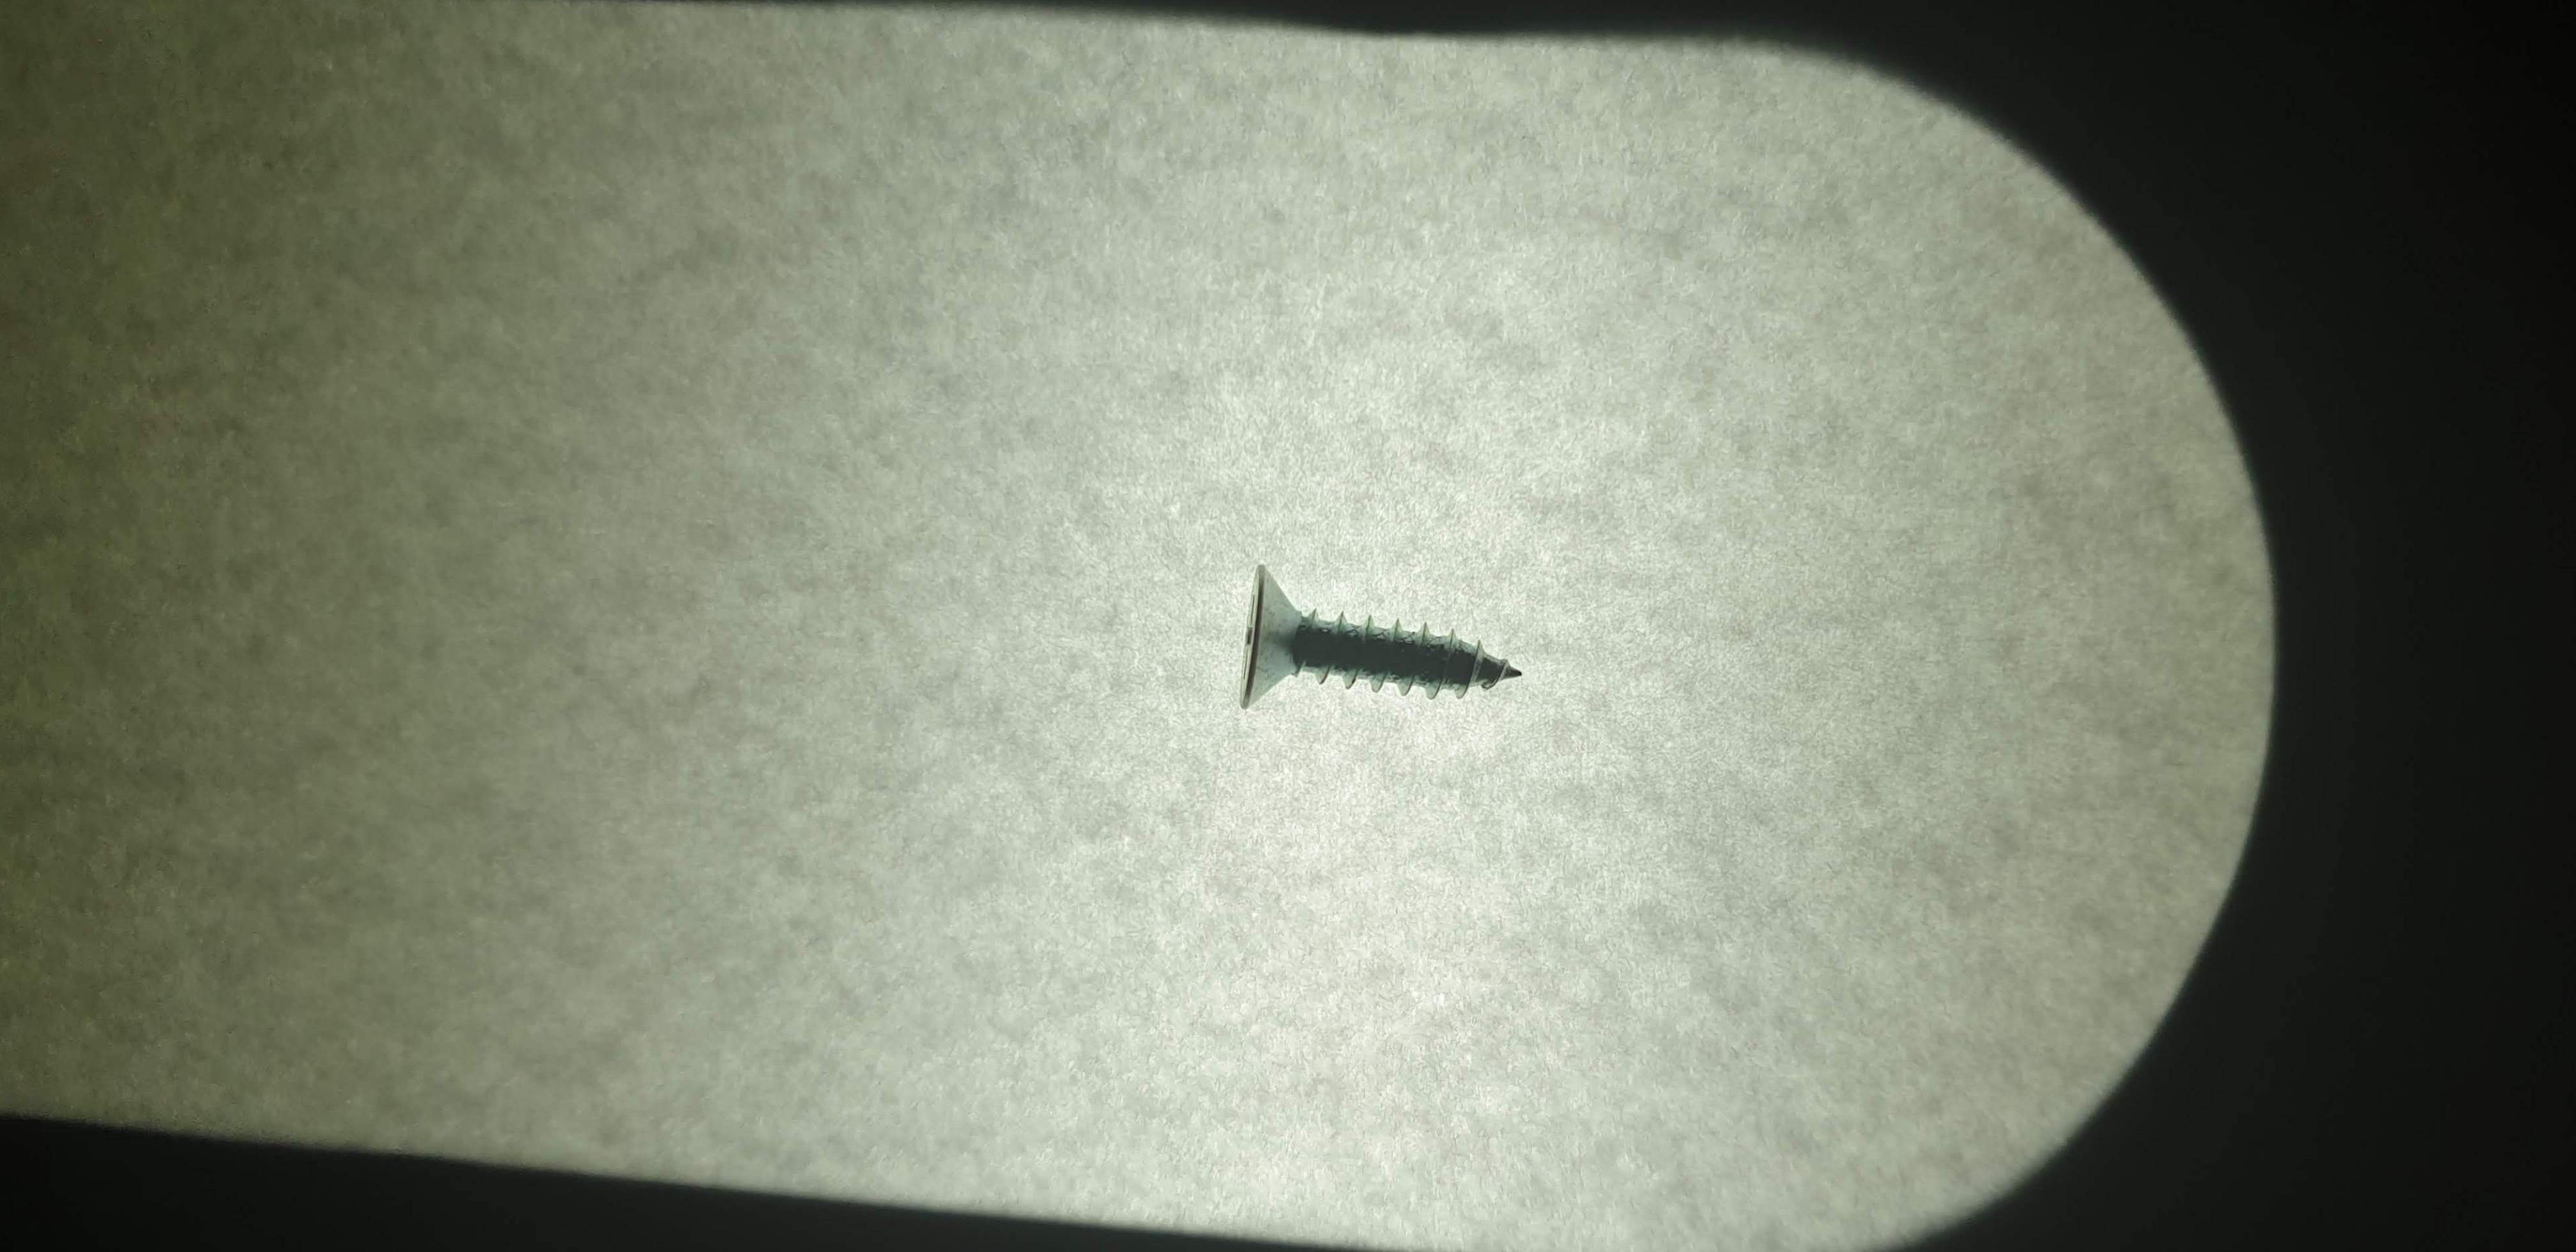S003: (1207, 522, 1564, 769)
